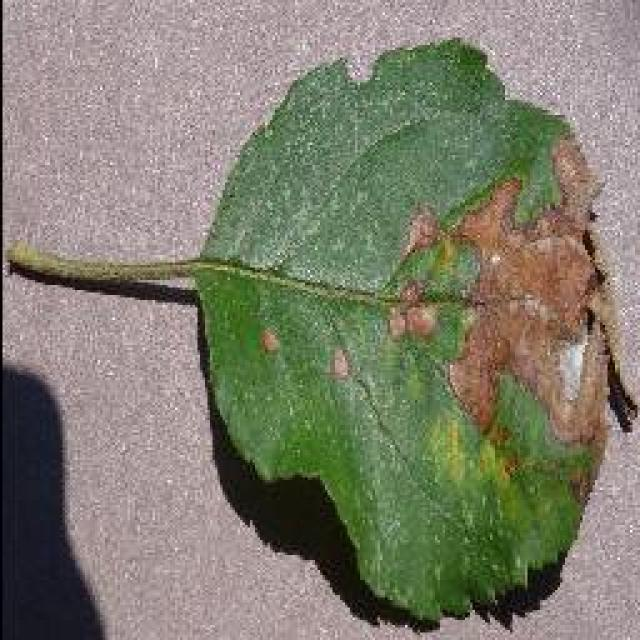Black_rot: (2, 35, 632, 625)
